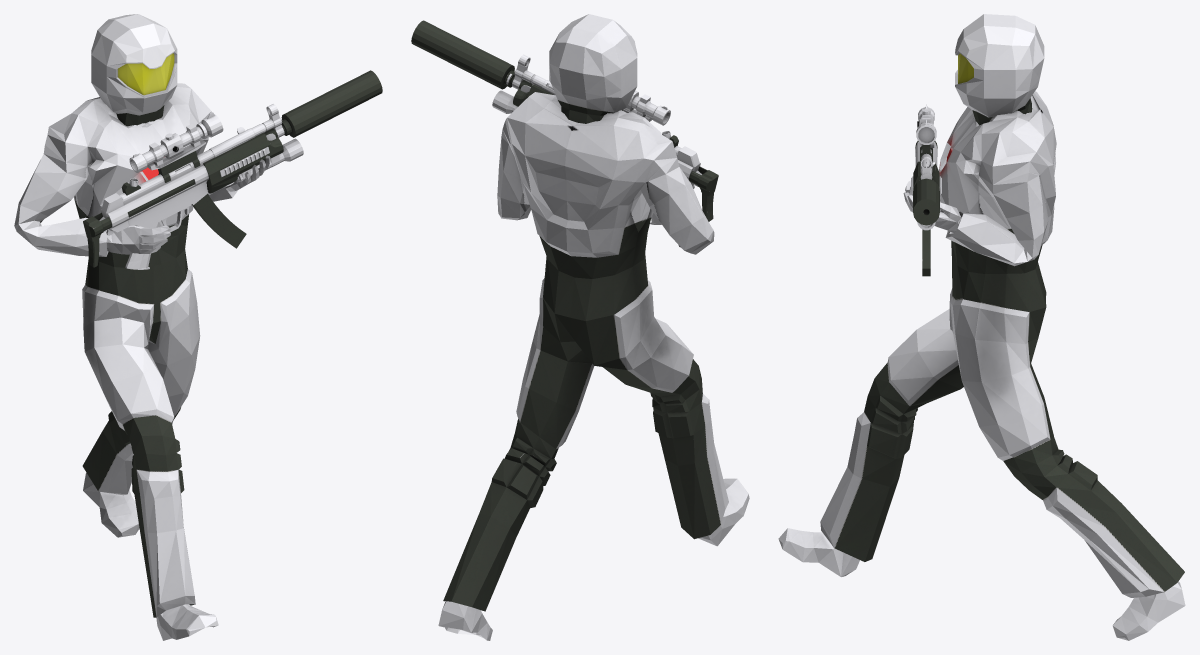
Rendered from walk4.obj.
3 views of the same model, side by side, from view 1: azimuth 30°, elevation 25°; view 2: azimuth 150°, elevation 25°; view 3: azimuth 270°, elevation 25° (orthographic). The views are drawn at different scales.
Visible parts, largest first — view 1: Male001Skin_001, Object001; view 2: Male001Skin_001, Object001; view 3: Male001Skin_001, Object001.
Boxes of the visible parts, x1,y1,x2,y2 form: Male001Skin_001: [14, 14, 270, 640]; Object001: [83, 70, 382, 269]; Male001Skin_001: [438, 14, 749, 640]; Object001: [411, 20, 718, 224]; Male001Skin_001: [778, 14, 1185, 640]; Object001: [911, 104, 941, 276].
Size of the model in its own units: 1111 by 1862 by 1166.
1 material, 1 textured.
